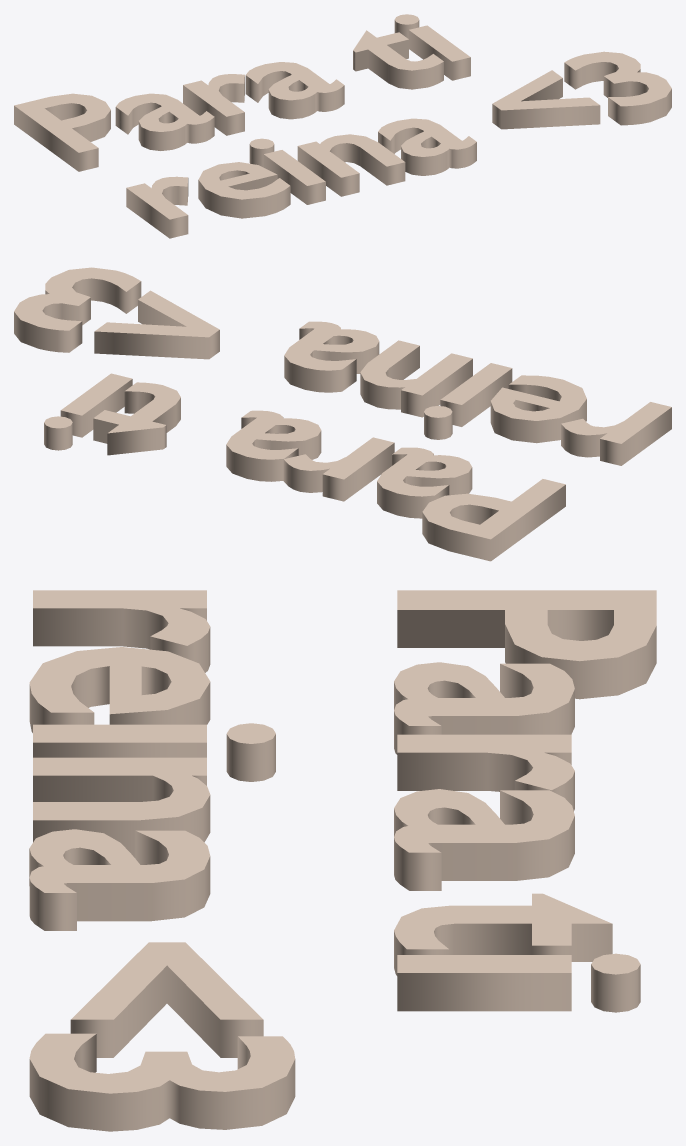
3 renders of one model, top to bottom at view 1: azimuth 30°, elevation 25°; view 2: azimuth 150°, elevation 25°; view 3: azimuth 270°, elevation 25°, orthographic. The views are drawn at different scales.
Visible parts, largest first — view 1: Text; view 2: Text; view 3: Text.
Boxes of the visible parts, box(x1,y1,x2,y2) form: Text: box(14, 14, 671, 238); Text: box(14, 267, 671, 561); Text: box(29, 590, 656, 1131).
Size of the model in its own units: 7.43 by 0.2619 by 3.91.
